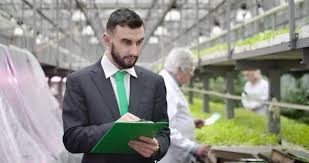white_male: (102, 9, 149, 65)
